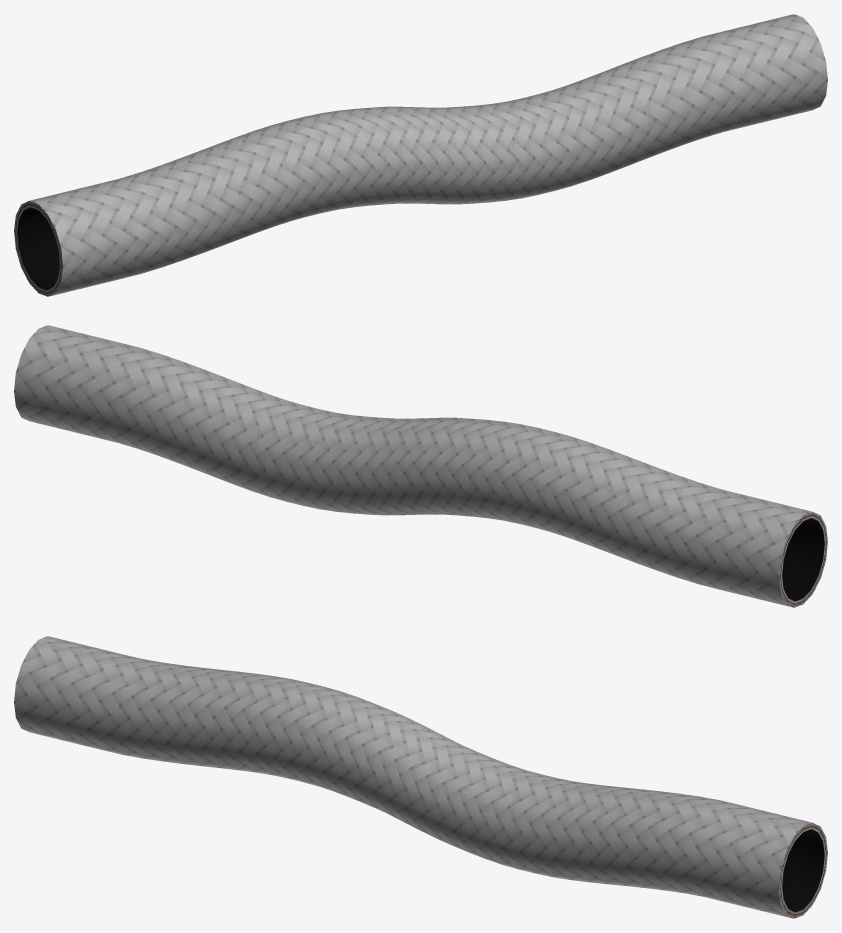
3 renders of one model, top to bottom at view 1: azimuth 30°, elevation 25°; view 2: azimuth 150°, elevation 25°; view 3: azimuth 330°, elevation 25°, orthographic.
Visible parts, largest first — view 1: Stainless_Steel_Braid-32.001; view 2: Stainless_Steel_Braid-32.001; view 3: Stainless_Steel_Braid-32.001.
Boxes of the visible parts, x1,y1,x2,y2 form: Stainless_Steel_Braid-32.001: (14, 14, 827, 296); Stainless_Steel_Braid-32.001: (14, 325, 827, 607); Stainless_Steel_Braid-32.001: (14, 636, 827, 918).
Size of the model in its own units: 0.5453 by 0.0843 by 0.0607.
Materials: 2 (2 with a texture image).
